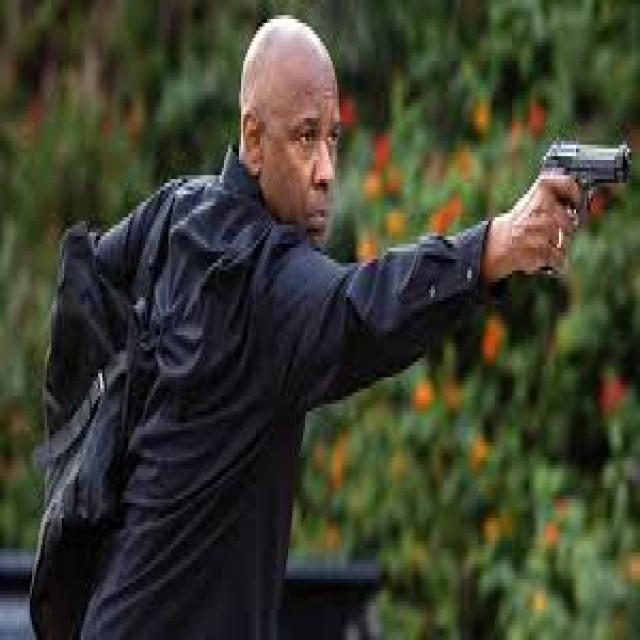weapons: (514, 106, 637, 274)
